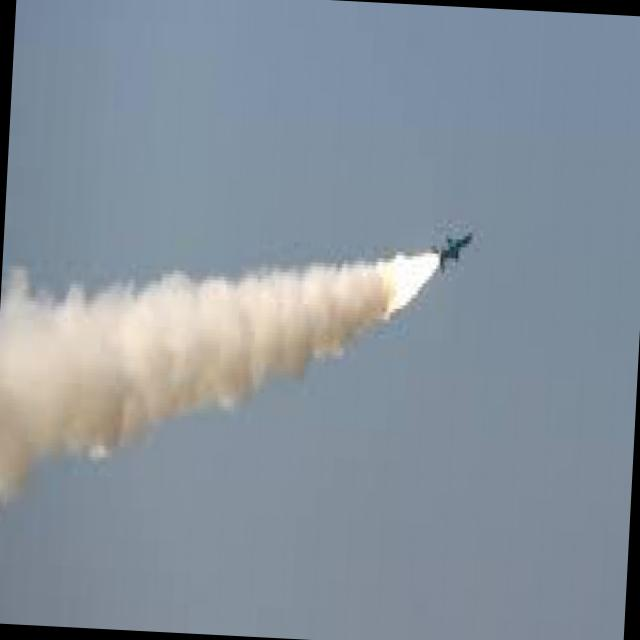rocket: (369, 222, 477, 326)
